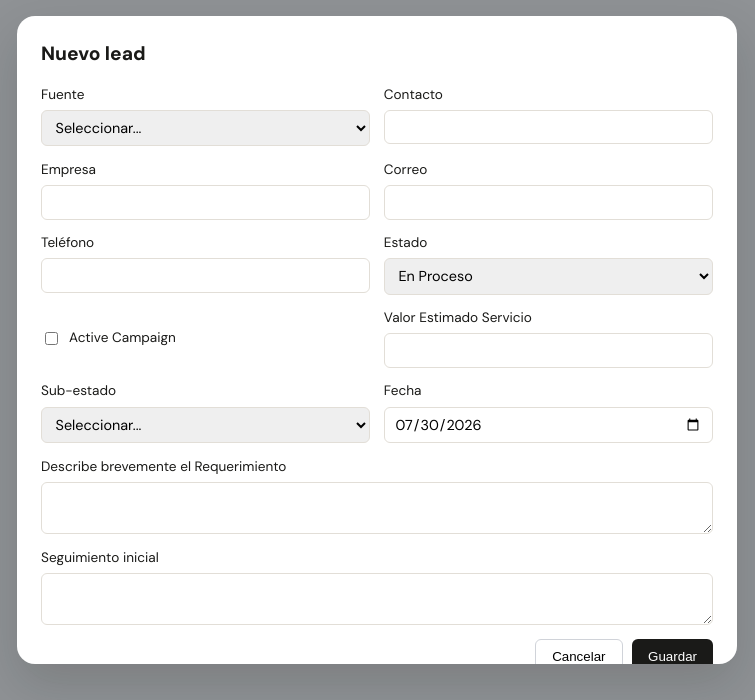
Test: LeadFormModal › render condicional por estado (mutuamente excluyente) › estado=convertido: muestra "Fecha de convertido", NO proceso ni rechazado
Check: the text "Estado" is shown, box [384,233,713,295]
Select "Convertido" in the dropdown labelled "Estado" at (548, 276), box [384,258,713,295]
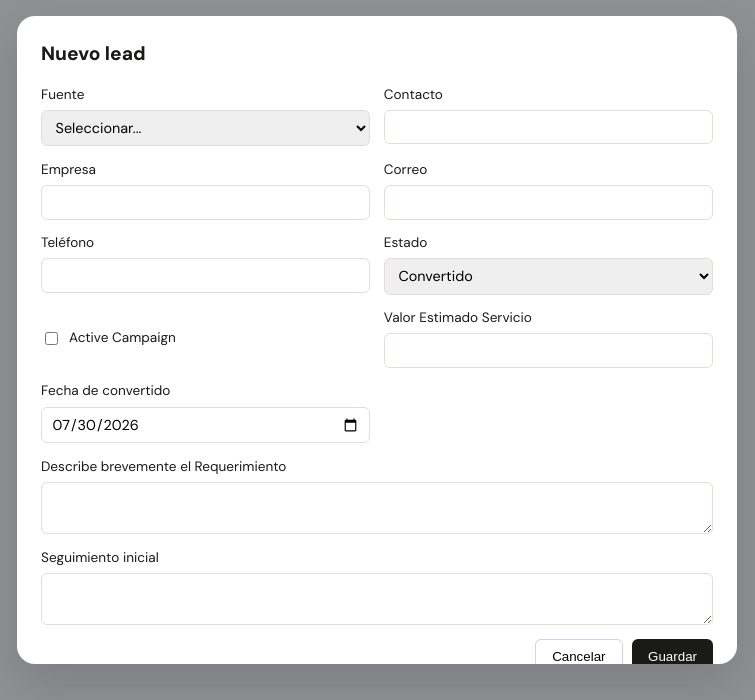
Check: the text "Fecha de convertido" is shown, box [41,382,170,399]
Check: the text "Sub-estado" is gone
